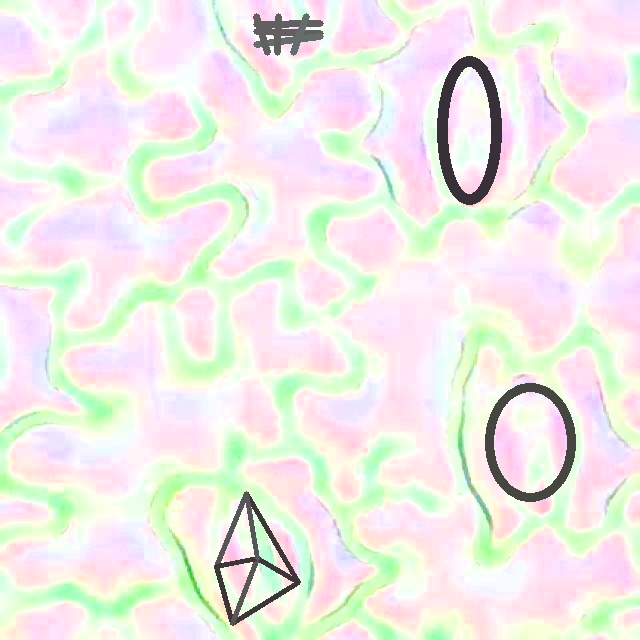close: (485, 382, 575, 502)
open: (214, 491, 300, 625), (437, 55, 501, 205), (254, 14, 323, 54)
